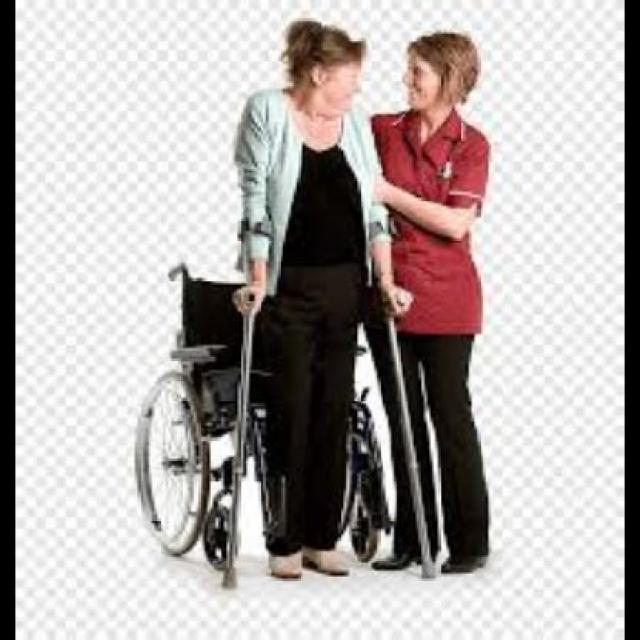wheelchairs: (136, 269, 386, 563)
